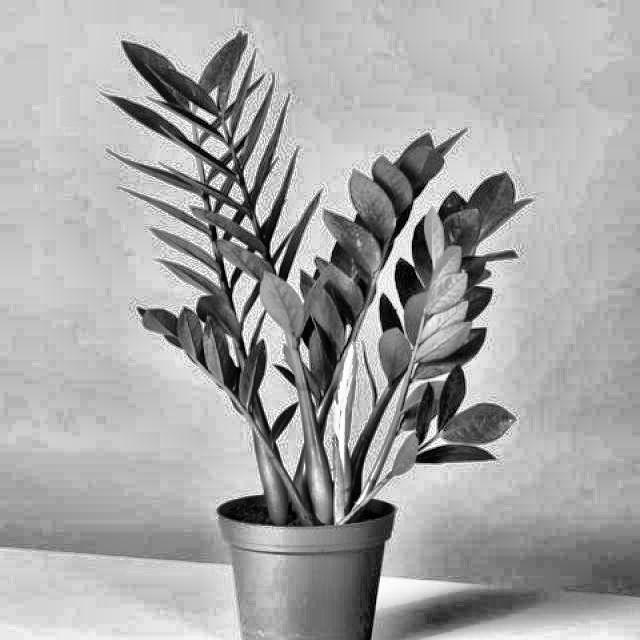plants: (98, 36, 520, 639)
